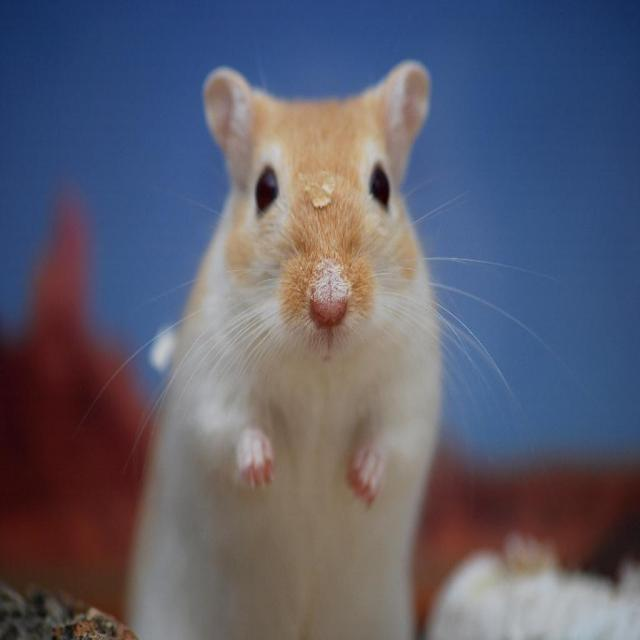rat: (128, 62, 447, 640)
